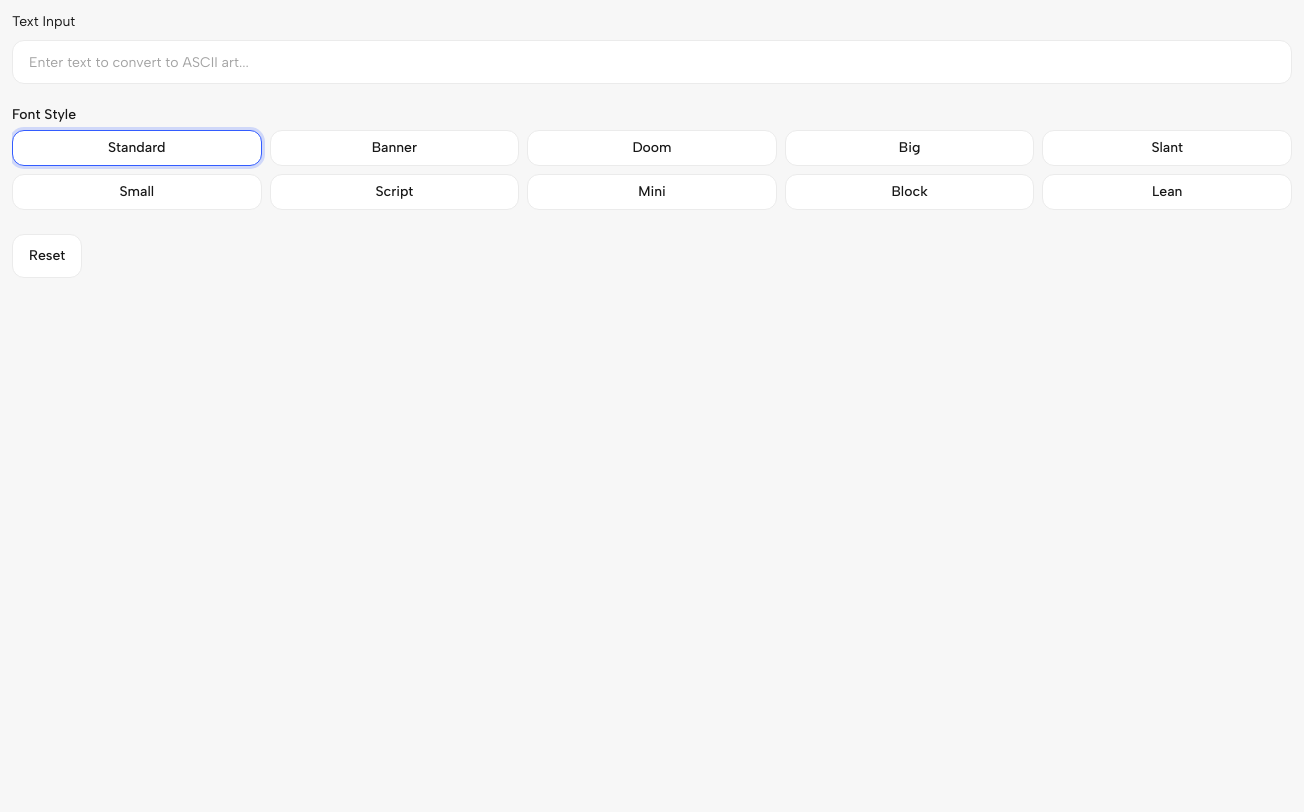
Scenario: AsciiArtTool › resets all fields when reset button is clicked
The image size is (1304, 812).
In the field: point(652, 62) [12, 40, 1292, 84], type "Test"
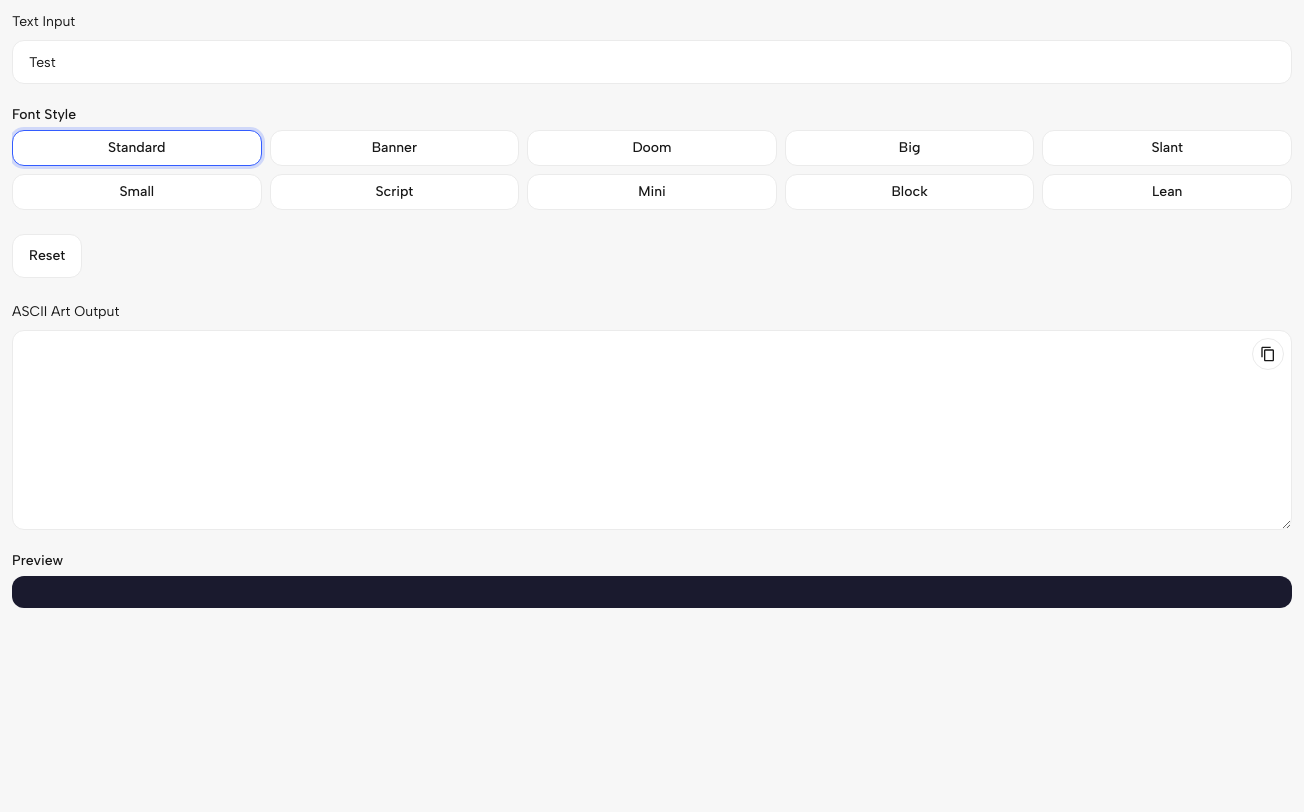
Expected: the text "ASCII Art Output" is shown, [12, 303, 119, 320]
// Change font
Click the button "Doom": point(652, 148) [527, 130, 777, 166]
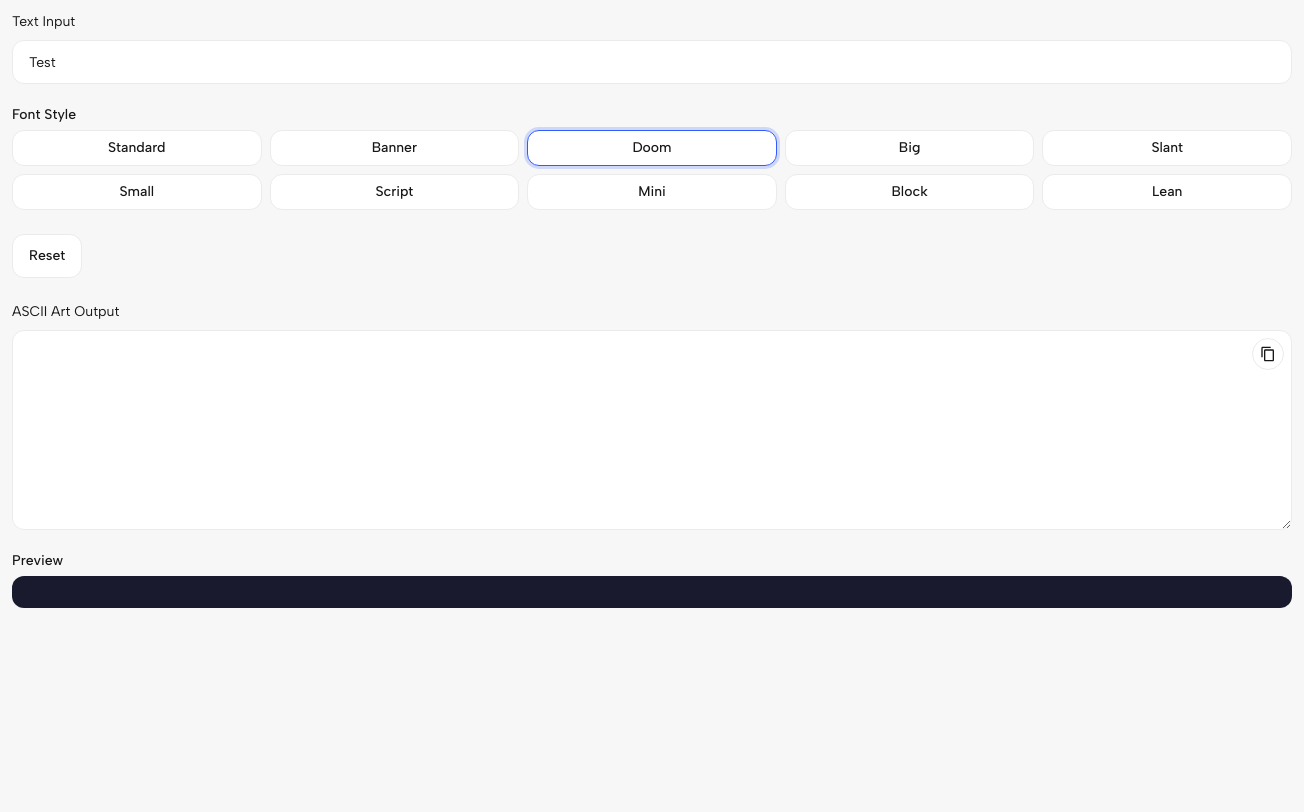
Click the button "Reset": point(47, 256) [12, 234, 82, 278]
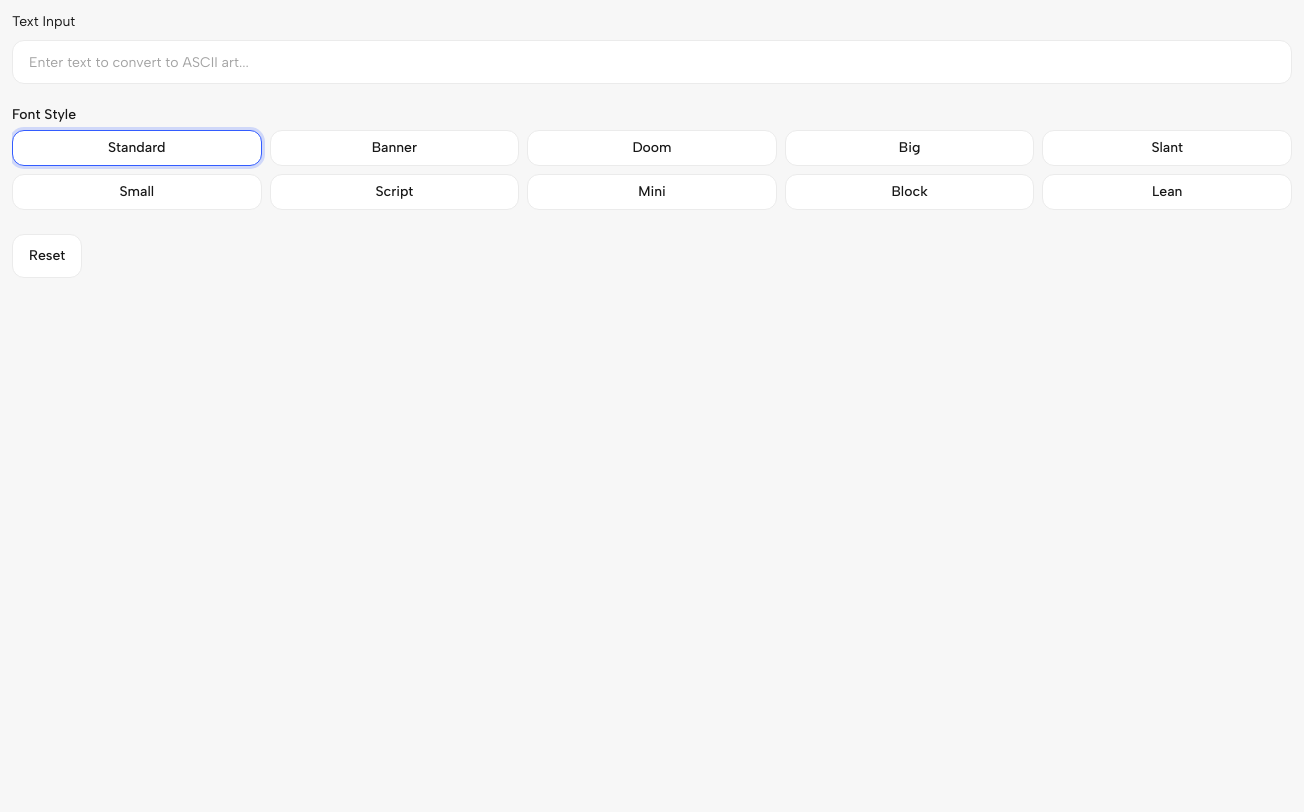
Expected: the field is empty, [12, 40, 1292, 84]
Expected: the text "ASCII Art Output" is gone
